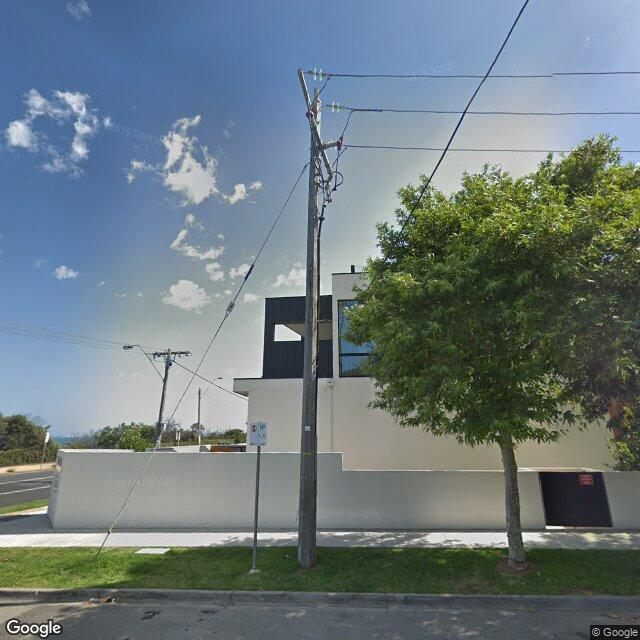HV-transmission: (306, 66, 344, 152)
crossarm: (298, 69, 334, 174), (152, 351, 190, 355)
streetlight: (122, 344, 162, 381), (200, 377, 223, 398)
timber-pole: (297, 100, 322, 569), (157, 348, 170, 448), (198, 387, 201, 446)
